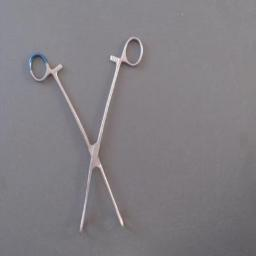Sponge Forceps: (23, 32, 149, 240)
